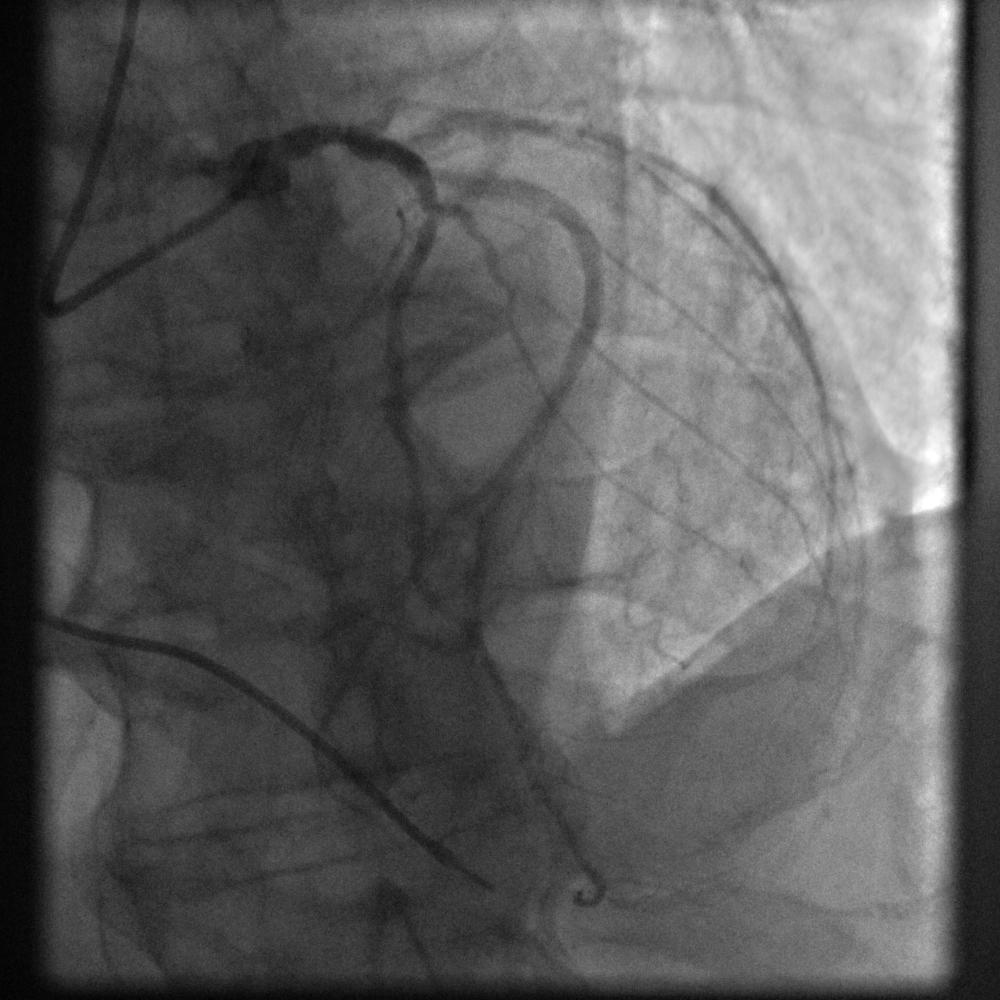Stenosis: (410, 183, 457, 235)
